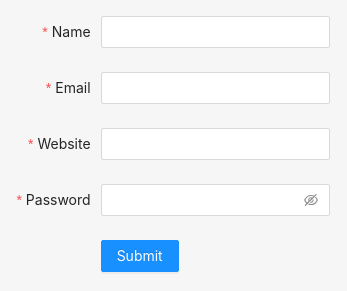
Test: RegistrationForm › name is validated correctly
In the field labelled "Name": (215, 32) [101,16,330,48], type "SingleName"
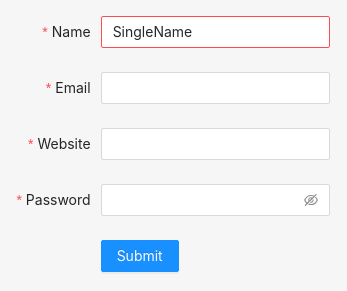
Click the button "Submit": (140, 256) [101,240,179,272]
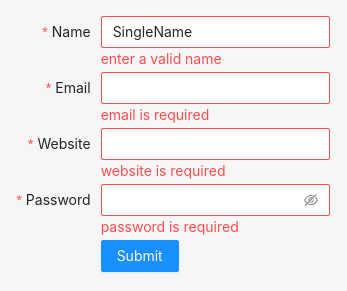
Expected: the text "enter a valid name" is shown, [101,50,222,67]
